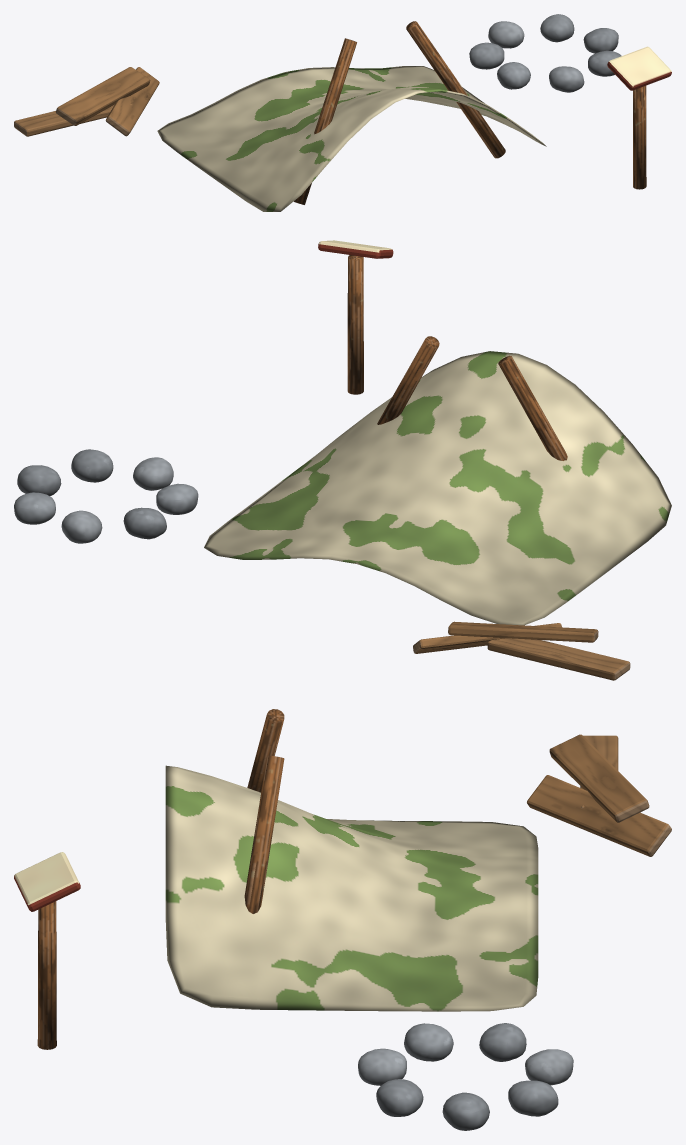
Rendered from old_camp.glb.
The picture shows the model from 3 angles, top to bottom: view 1: azimuth 30°, elevation 25°; view 2: azimuth 150°, elevation 25°; view 3: azimuth 270°, elevation 25°; orthographic projection. The views are drawn at different scales.
Parts seen in each view (by area): view 1: OldCamp; view 2: OldCamp; view 3: OldCamp.
Boxes of the visible parts, bbox=[...] form: OldCamp: bbox=[14, 14, 671, 211]; OldCamp: bbox=[14, 240, 671, 680]; OldCamp: bbox=[14, 709, 671, 1130].
Bounding box in the file's own units: 4.63 × 1.15 × 3.46.
Materials: 1 (1 with a texture image).
